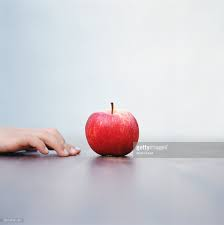apple: (81, 110, 141, 164)
